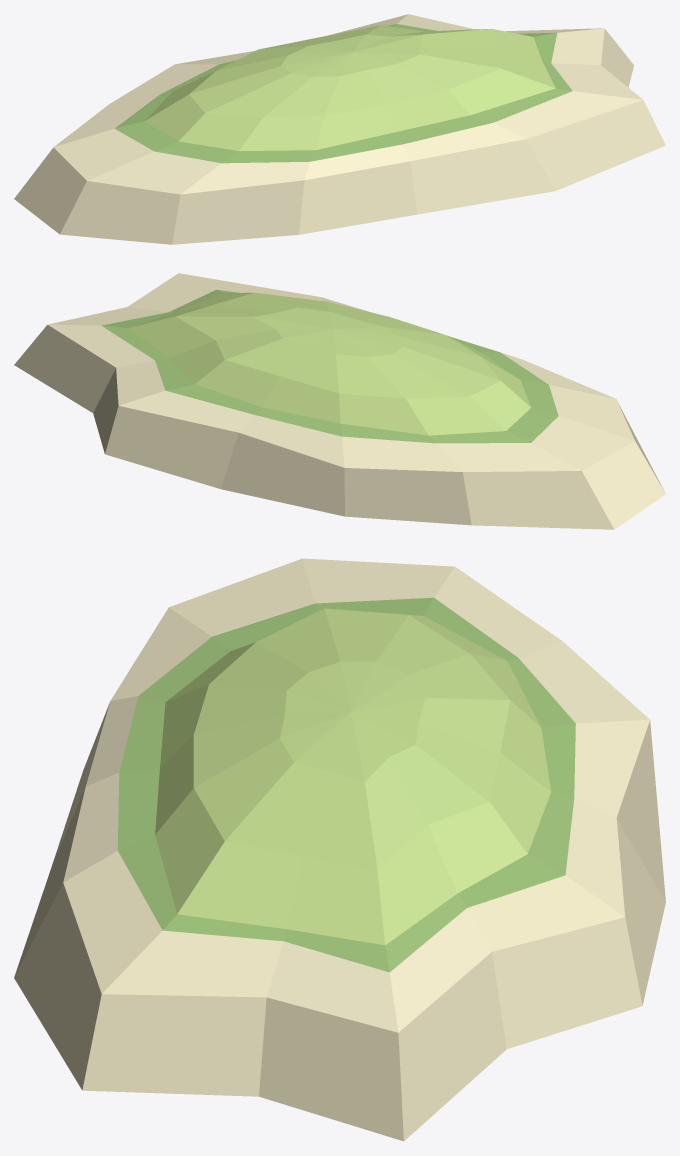
File: Decor_IslandLow.fbx
The picture shows the model from 3 angles, top to bottom: view 1: azimuth 30°, elevation 25°; view 2: azimuth 150°, elevation 25°; view 3: azimuth 270°, elevation 25°; orthographic projection. The views are drawn at different scales.
Visible parts, largest first — view 1: Decor_IslandLow; view 2: Decor_IslandLow; view 3: Decor_IslandLow.
Part boxes in pixels (box(x1,y1,x2,y2)): Decor_IslandLow: box(14, 14, 665, 244); Decor_IslandLow: box(14, 273, 665, 529); Decor_IslandLow: box(14, 558, 665, 1141).
Size of the model in its own units: 43.5 by 6.62 by 22.78.
